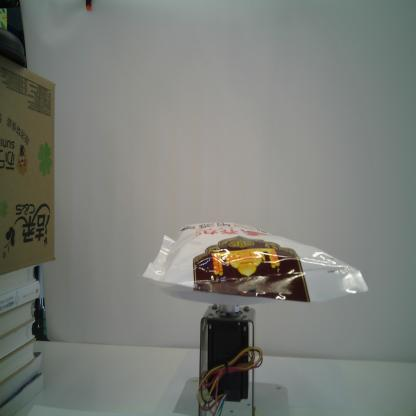Dried Food: (140, 219, 370, 306)
